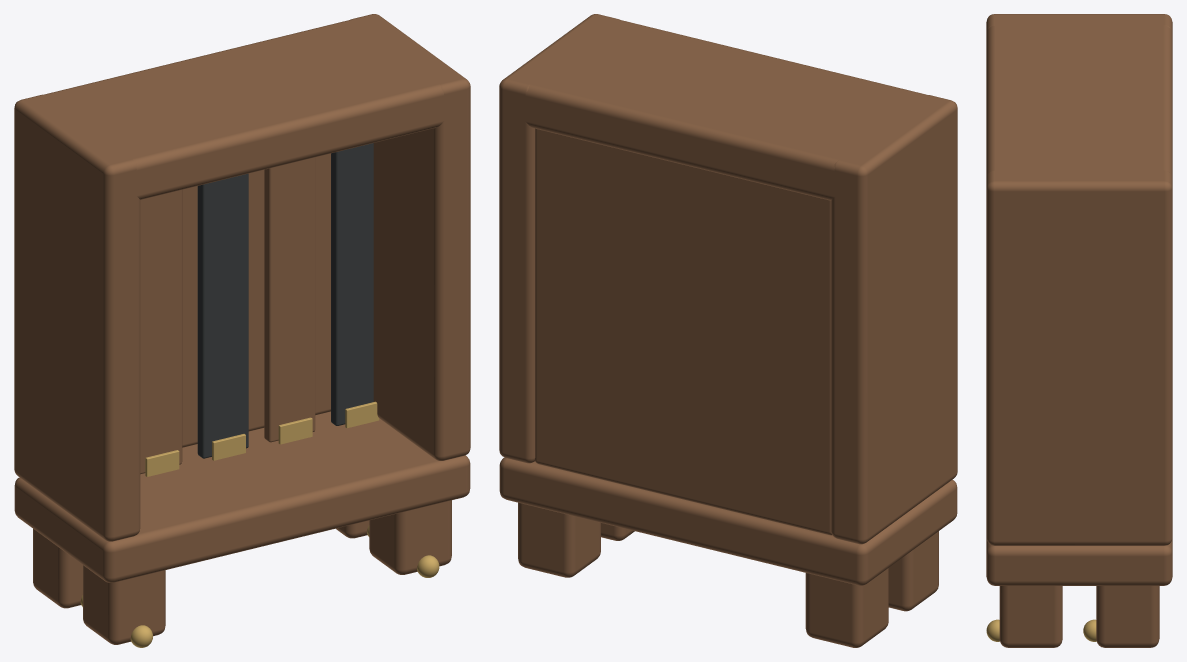
The model's file is clockmaker-and-watch-repair-strap-display-6e21c57a__30632.glb.
3 views of the same model, side by side, from view 1: azimuth 30°, elevation 25°; view 2: azimuth 150°, elevation 25°; view 3: azimuth 270°, elevation 25° (orthographic). The views are drawn at different scales.
Visible parts, largest first — view 1: strap-display; view 2: strap-display; view 3: strap-display.
Boxes of the visible parts, x1,y1,x2,y2 form: strap-display: (14,14,470,647); strap-display: (499,14,957,647); strap-display: (986,14,1172,647).
Bounding box in the file's own units: 0.55 × 0.705 × 0.25.
